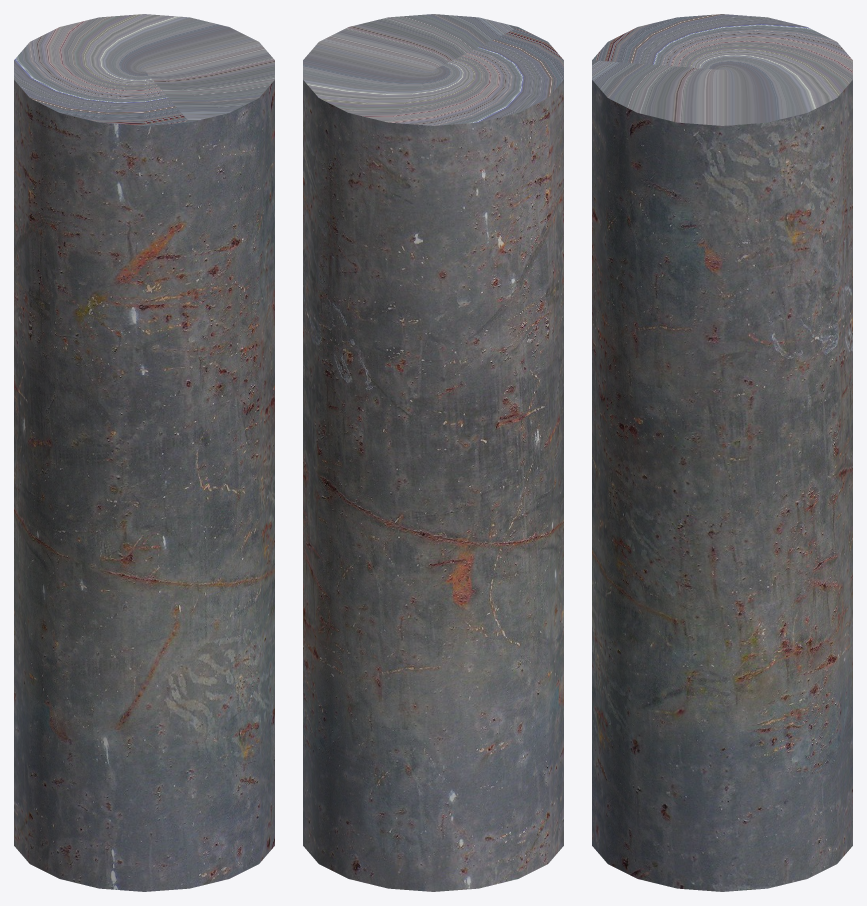
Rendered from pump_pipe.FBX.
The picture shows the model from 3 angles, left to right: view 1: azimuth 30°, elevation 25°; view 2: azimuth 150°, elevation 25°; view 3: azimuth 270°, elevation 25°; orthographic projection.
Parts seen in each view (by area): view 1: Cylinder001; view 2: Cylinder001; view 3: Cylinder001.
Part boxes in pixels (x1,y1,x2,y2): Cylinder001: (14, 14, 274, 891); Cylinder001: (303, 14, 563, 891); Cylinder001: (592, 14, 852, 891).
Bounding box in the file's own units: 15.61 × 49.82 × 15.38.
